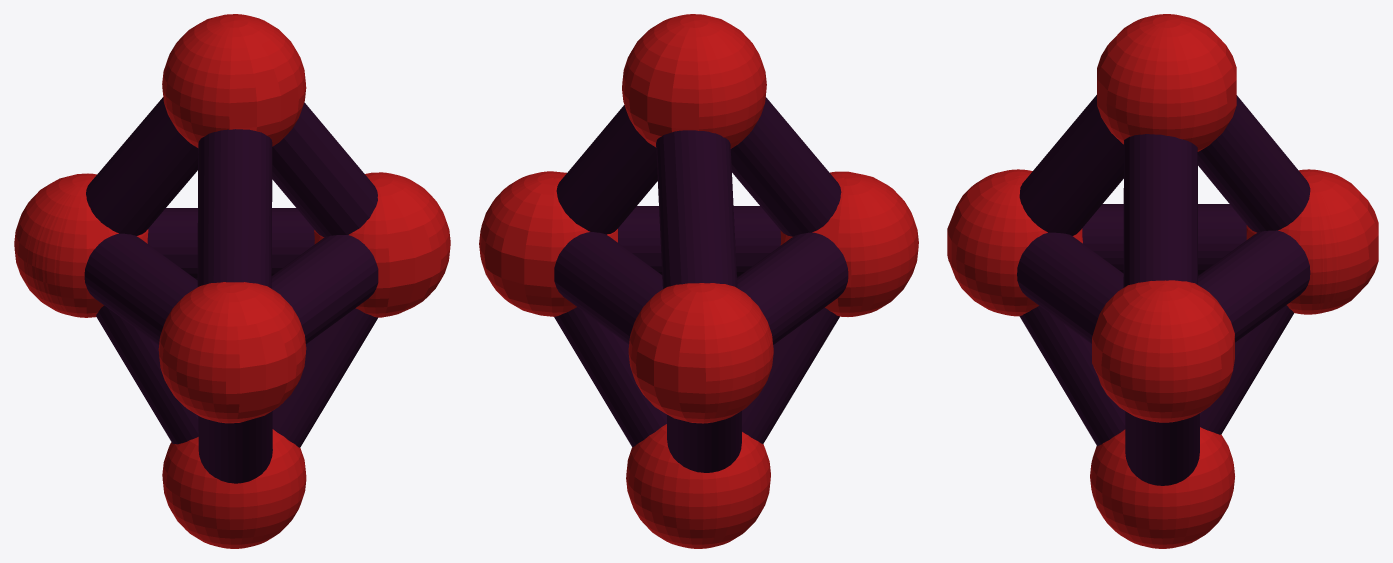
The model's file is 3Dvertex5.fbx.
3 renders of one model, left to right at view 1: azimuth 30°, elevation 25°; view 2: azimuth 150°, elevation 25°; view 3: azimuth 270°, elevation 25°, orthographic.
Visible parts, largest first — view 1: Cylinder.003; view 2: Cylinder.003; view 3: Cylinder.003.
Part boxes in pixels (bbox=[...]): Cylinder.003: bbox=[14, 14, 450, 548]; Cylinder.003: bbox=[479, 14, 918, 548]; Cylinder.003: bbox=[947, 14, 1378, 548].
Size of the model in its own units: 552 by 794 by 594.
